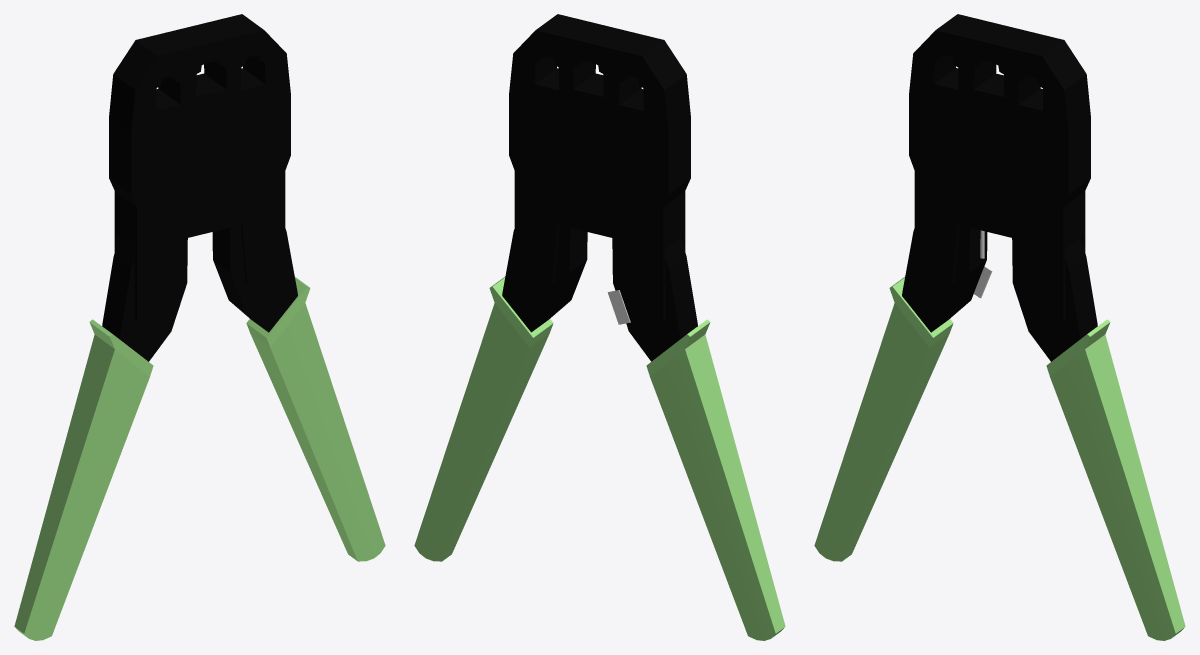
Rendered from Crimping Tool.fbx.
3 views of the same model, side by side, from view 1: azimuth 30°, elevation 25°; view 2: azimuth 150°, elevation 25°; view 3: azimuth 330°, elevation 25° (orthographic).
Visible parts, largest first — view 1: Cube, Cube.002, Cube.001; view 2: Cube, Cube.002, Cube.001; view 3: Cube, Cube.002, Cube.001.
Part boxes in pixels (left/top/right/bottom): Cube: left=109, top=14, right=290, bottom=324; Cube.002: left=14, top=276, right=385, bottom=640; Cube.001: left=102, top=225, right=297, bottom=361; Cube: left=509, top=14, right=690, bottom=324; Cube.002: left=414, top=276, right=785, bottom=640; Cube.001: left=502, top=225, right=697, bottom=361; Cube: left=909, top=14, right=1090, bottom=324; Cube.002: left=814, top=276, right=1185, bottom=640; Cube.001: left=902, top=225, right=1097, bottom=361.
Bounding box in the file's own units: 73.25 × 109 × 7.78.
